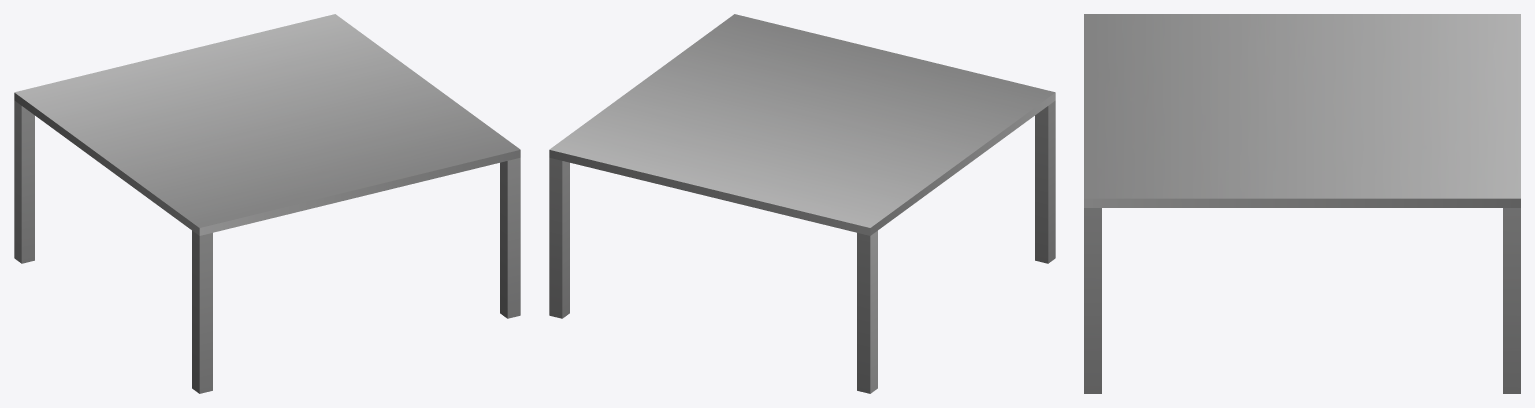
The model's file is SquareTable.fbx.
3 views of the same model, side by side, from view 1: azimuth 30°, elevation 25°; view 2: azimuth 150°, elevation 25°; view 3: azimuth 270°, elevation 25° (orthographic). The views are drawn at different scales.
Visible parts, largest first — view 1: SquareTable; view 2: SquareTable; view 3: SquareTable.
Part boxes in pixels (<box>): SquareTable: <box>14,14,520,393</box>; SquareTable: <box>549,14,1055,393</box>; SquareTable: <box>1084,14,1520,393</box>.
Bounding box in the file's own units: 287 × 142 × 287.
1 material, 1 textured.
